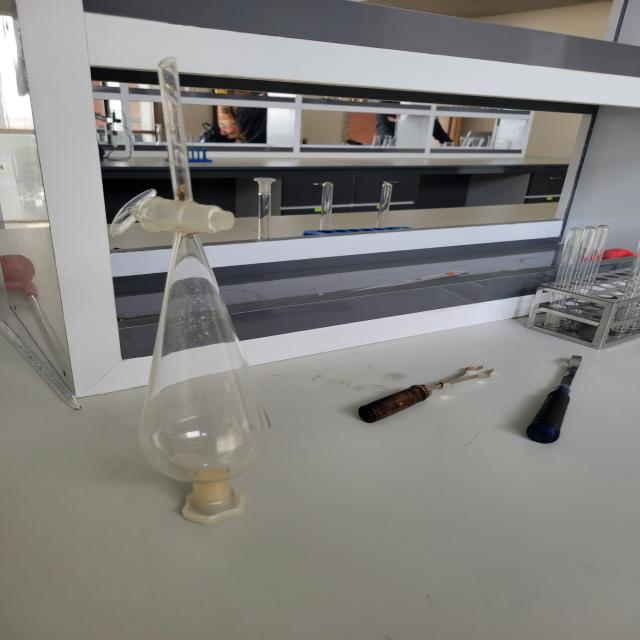Separating_Funnel: (89, 37, 301, 559)
